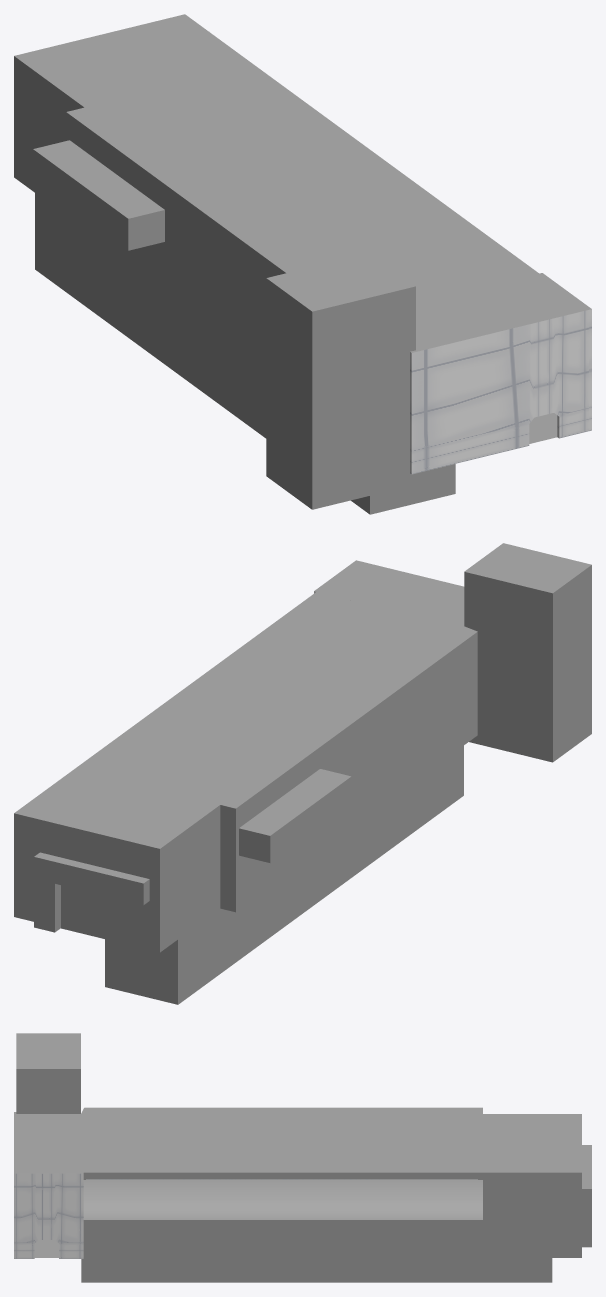
Rendered from Level3_A1_UnTextured.fbx.
3 renders of one model, top to bottom at view 1: azimuth 30°, elevation 25°; view 2: azimuth 150°, elevation 25°; view 3: azimuth 270°, elevation 25°, orthographic. The views are drawn at different scales.
Parts seen in each view (by area): view 1: pPlane6, polySurface2, pCube8, pCube17, polySurface1, pCube14, pCube12, pPlane3, pPlane5, pCube9, pCube6; view 2: pPlane6, pCube8, polySurface2, polySurface1, pCube14, pCube13, pPlane5, pCube12, pPlane3, pCube10; view 3: pCube4, pPlane6, polySurface1, pPlane4, pCube18, pCube14, pCube6, pCube8, polySurface2, pCube13.
Part boxes in pixels (<box>): pPlane6: <box>24,21,586,350</box>; polySurface2: <box>266,254,409,509</box>; pCube8: <box>66,107,304,379</box>; pCube17: <box>410,308,588,474</box>; polySurface1: <box>35,193,557,514</box>; pCube14: <box>14,14,205,192</box>; pCube12: <box>33,147,134,250</box>; pPlane3: <box>43,143,160,214</box>; pPlane5: <box>35,71,83,215</box>; pCube9: <box>131,207,164,249</box>; pCube6: <box>364,253,415,485</box>; pPlane6: <box>22,562,464,843</box>; pCube8: <box>220,626,477,912</box>; polySurface2: <box>469,544,591,762</box>; polySurface1: <box>105,745,463,1004</box>; pCube14: <box>14,800,177,952</box>; pCube13: <box>34,852,149,932</box>; pPlane5: <box>178,805,220,938</box>; pCube12: <box>265,775,351,862</box>; pPlane3: <box>242,771,342,832</box>; pCube10: <box>239,826,267,861</box>; pCube4: <box>83,1172,482,1257</box>; pPlane6: <box>16,1114,570,1172</box>; polySurface1: <box>34,1240,552,1282</box>; pPlane4: <box>483,1172,552,1257</box>; pCube18: <box>14,1172,83,1258</box>; pCube14: <box>552,1114,581,1257</box>; pCube6: <box>16,1067,80,1113</box>; pCube8: <box>81,1107,482,1113</box>; polySurface2: <box>16,1033,80,1066</box>; pCube13: <box>582,1145,591,1247</box>.
Bounding box in the file's own units: 45.5 × 41 × 116.
Materials: 6 (3 with a texture image).
